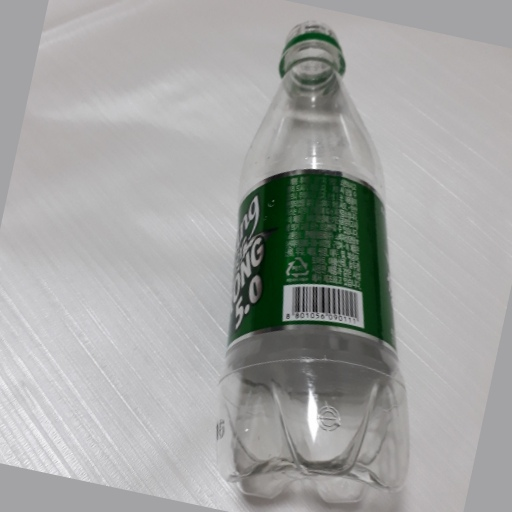Plastic_0: (219, 23, 410, 505)
